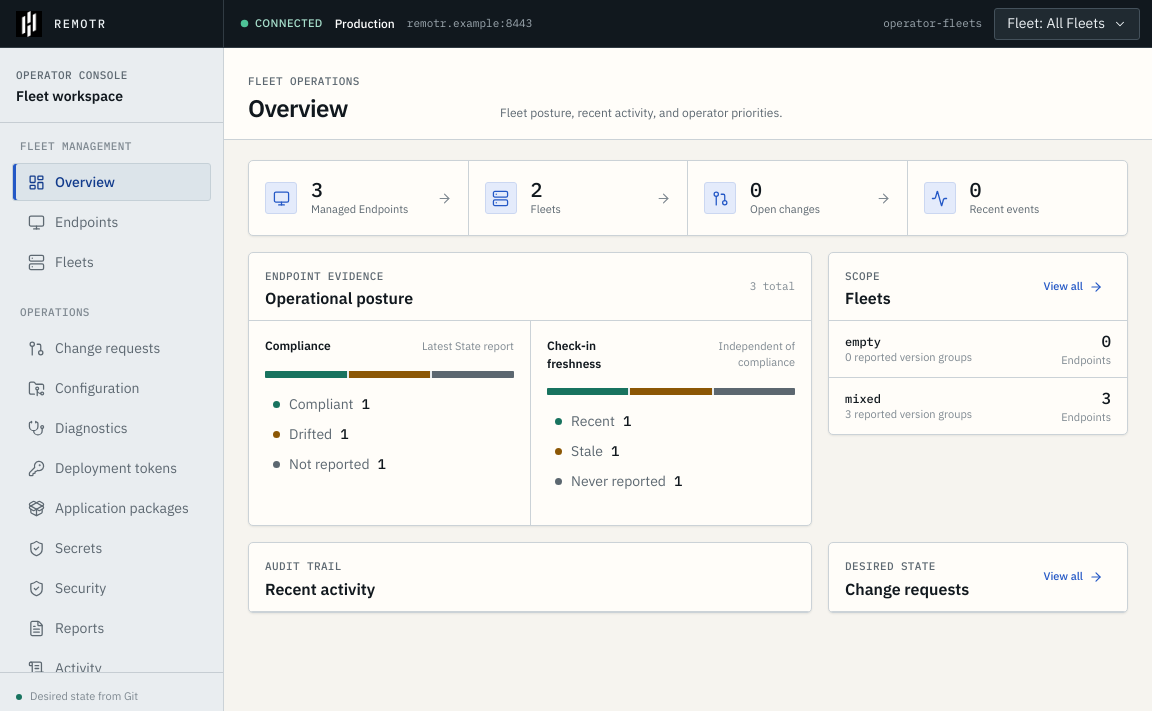
Test: FleetPage › keeps summary counts equal to members and filters from a distribution
The width and height of the screenshot is (1152, 711).
Click the button "Fleets".
click(112, 262)  # box [12,243,211,281]
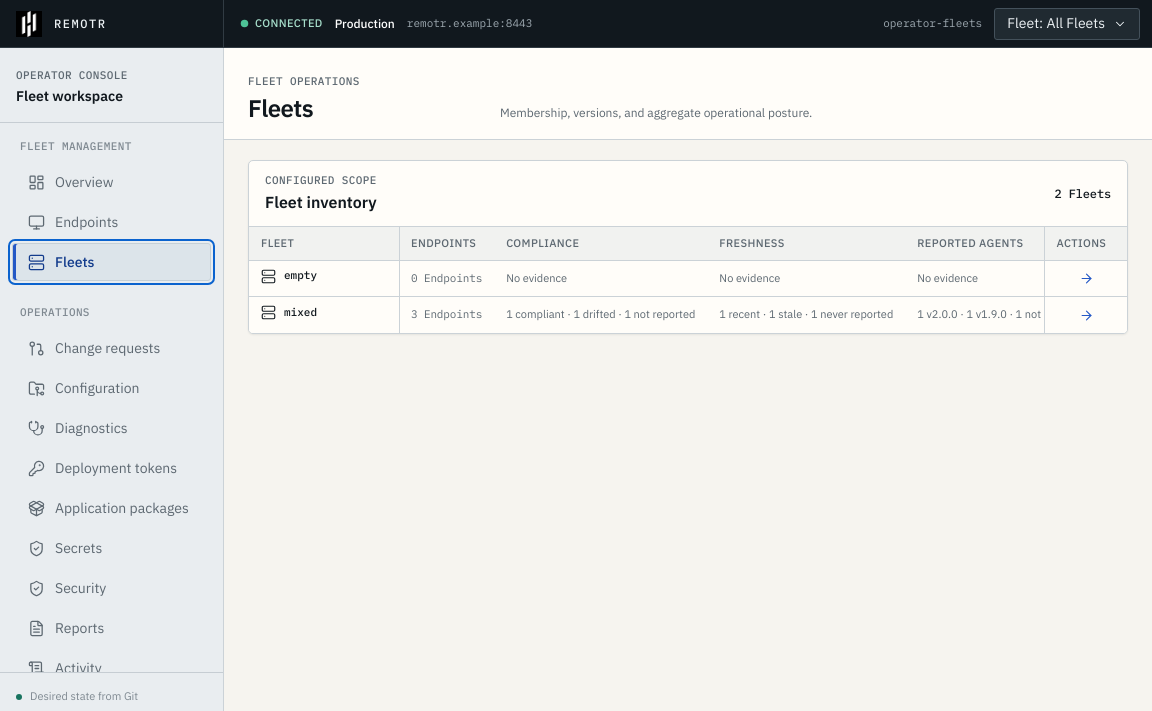
Expected: the text "empty" is shown, [261,268,317,284]
Expected: the text "mixed" is shown, [261,305,317,321]
Click the button named "Open Fleet mixed".
click(1086, 315)  # box [1072,301,1100,329]
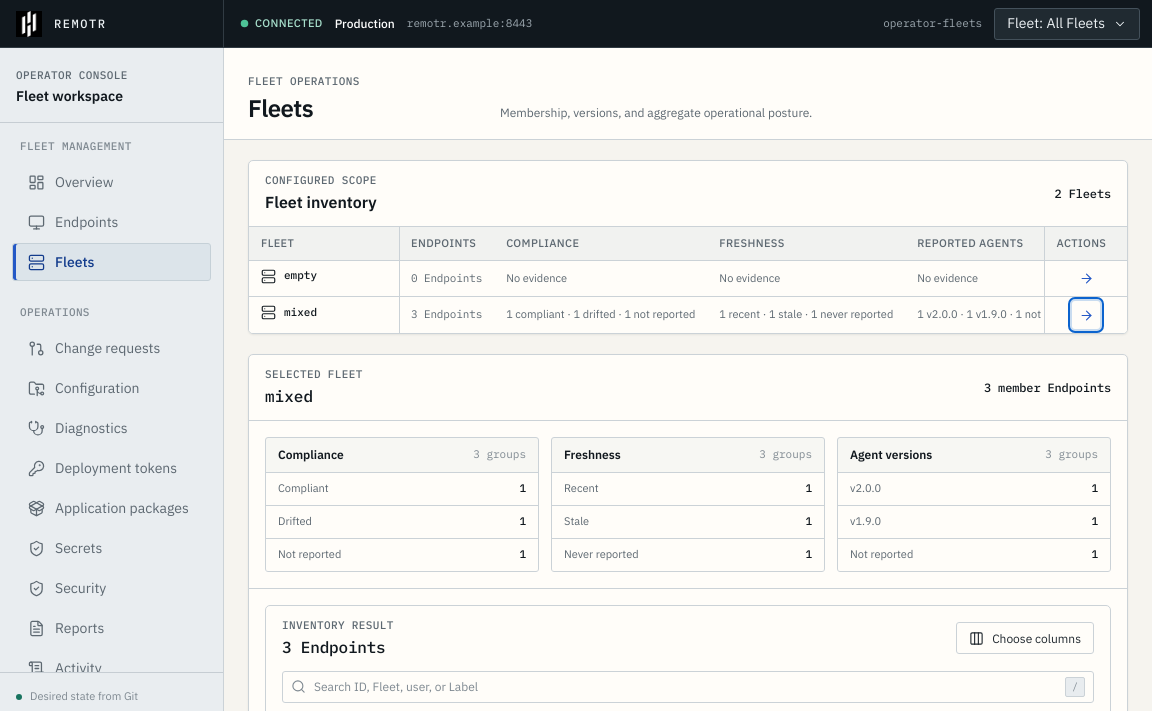
Result: the text "3 member Endpoints" is shown at [984,379,1111,396]
Result: the button with aria-label "1 compliant member" is shown
Result: the button with aria-label "1 drifted member" is shown at [266,506,538,538]
Click the button with aria-label "1 compliant member".
click(303, 488)  # box [266,473,538,505]
(page scrolled)
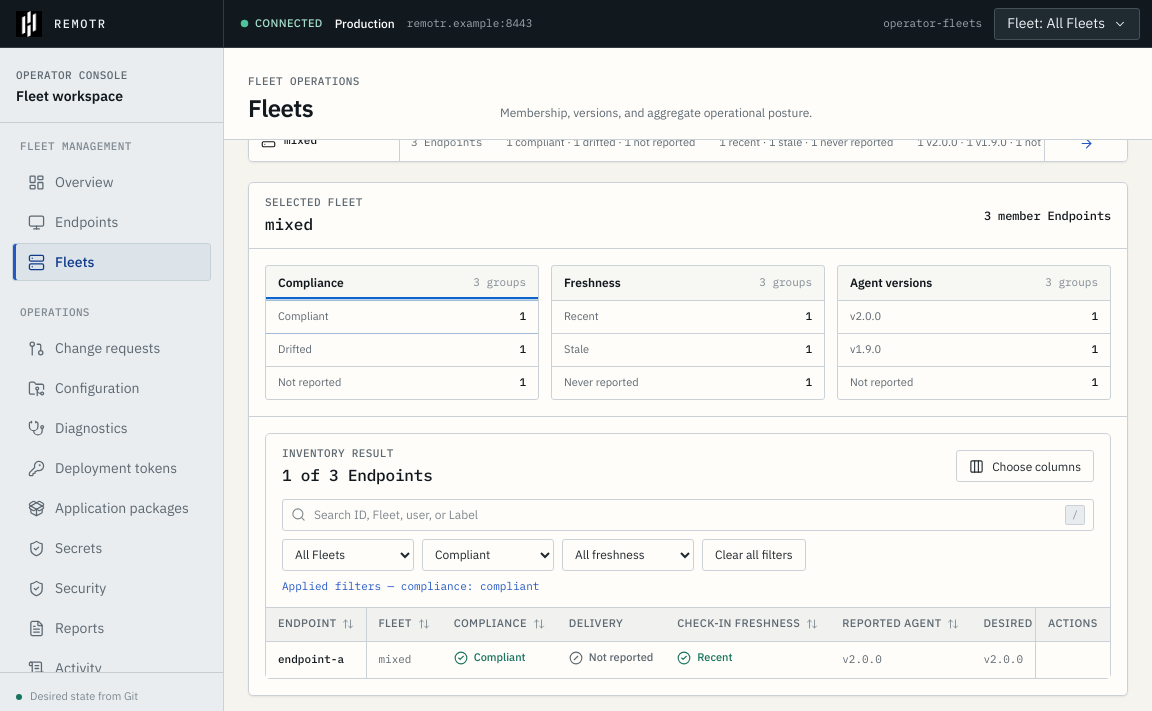
Result: the text "1 of 3 Endpoints" is shown at [282,464,433,487]
Result: the text "endpoint-a" is shown at [266,642,366,678]
Result: the dropdown named "Compliance filter" shows "Compliant" at [422,539,554,571]
